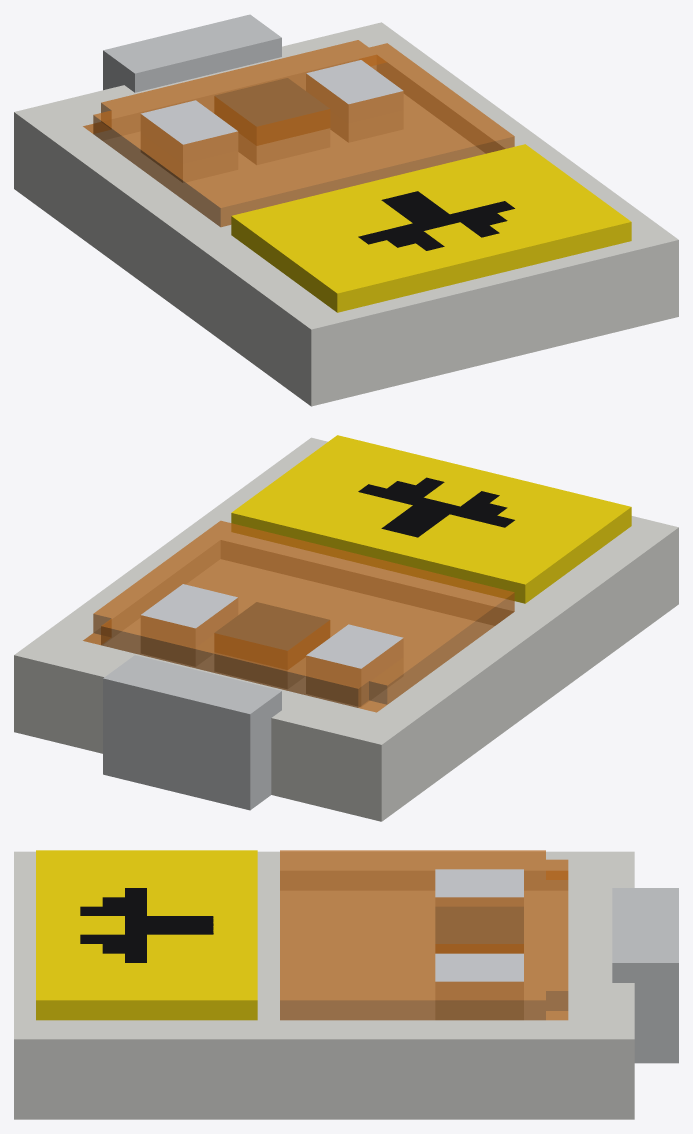
The model's file is rad_badge.glb.
The picture shows the model from 3 angles, top to bottom: view 1: azimuth 30°, elevation 25°; view 2: azimuth 150°, elevation 25°; view 3: azimuth 270°, elevation 25°; orthographic projection. The views are drawn at different scales.
Visible parts, largest first — view 1: rad_badge:compound; view 2: rad_badge:compound; view 3: rad_badge:compound.
Part boxes in pixels (<box>): rad_badge:compound: <box>14,14,678,406</box>; rad_badge:compound: <box>14,435,678,821</box>; rad_badge:compound: <box>14,850,678,1119</box>.
Bounding box in the file's own units: 0.04 × 0.01 × 0.06.
